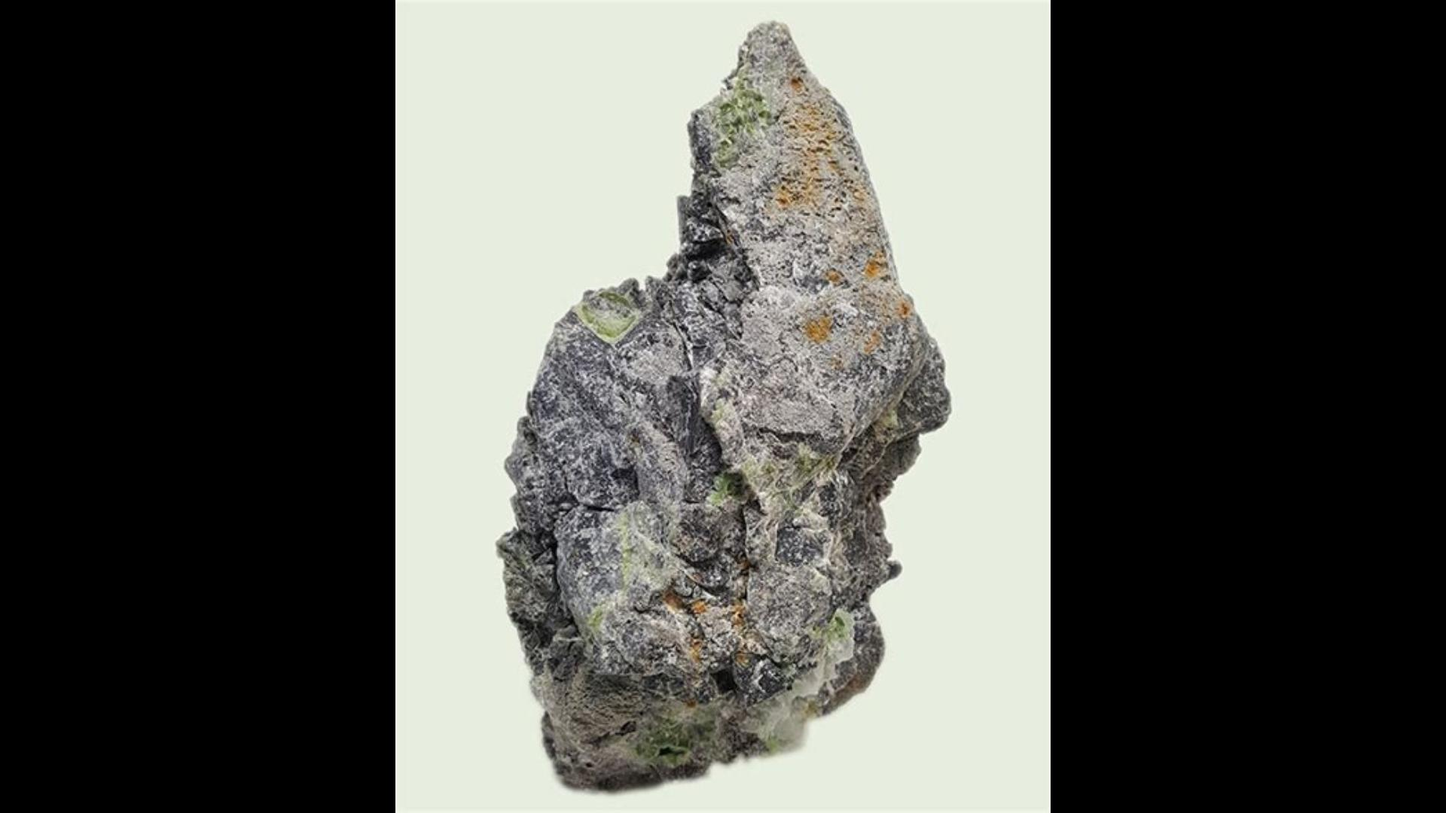rock: (498, 22, 949, 789)
